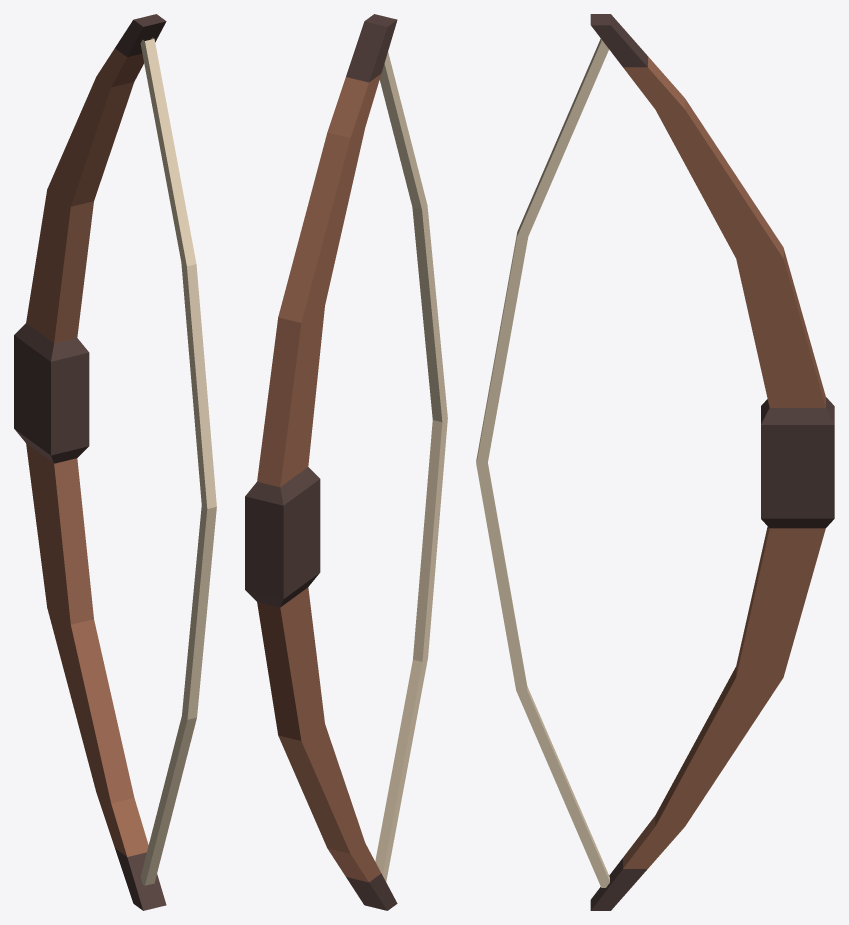
File: bow.fbx
3 renders of one model, left to right at view 1: azimuth 30°, elevation 25°; view 2: azimuth 150°, elevation 25°; view 3: azimuth 270°, elevation 25°, orthographic.
Parts seen in each view (by area): view 1: bow; view 2: bow; view 3: bow.
Part boxes in pixels (box(x1,y1,x2,y2)): bow: box(14, 14, 216, 910); bow: box(245, 14, 447, 910); bow: box(476, 14, 834, 910).
Size of the model in its own units: 0.0691 by 1.52 by 0.5571.
